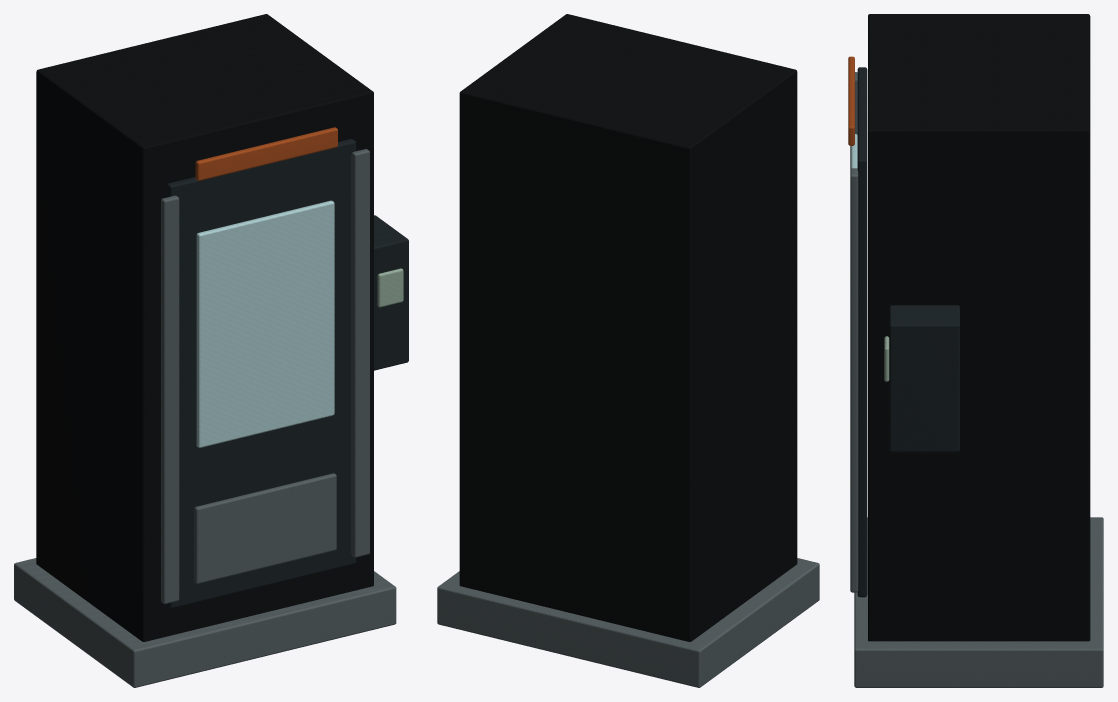
File: CryoPod.fbx
The picture shows the model from 3 angles, left to right: view 1: azimuth 30°, elevation 25°; view 2: azimuth 150°, elevation 25°; view 3: azimuth 270°, elevation 25°; orthographic projection. The views are drawn at different scales.
Visible parts, largest first — view 1: CryoPod_Mesh; view 2: CryoPod_Mesh; view 3: CryoPod_Mesh.
Boxes of the visible parts, x1=… form: CryoPod_Mesh: x1=14, y1=14, x2=408, y2=687; CryoPod_Mesh: x1=437, y1=14, x2=819, y2=687; CryoPod_Mesh: x1=848, y1=14, x2=1103, y2=687.
Size of the model in its own units: 129 by 224 by 94.25.
